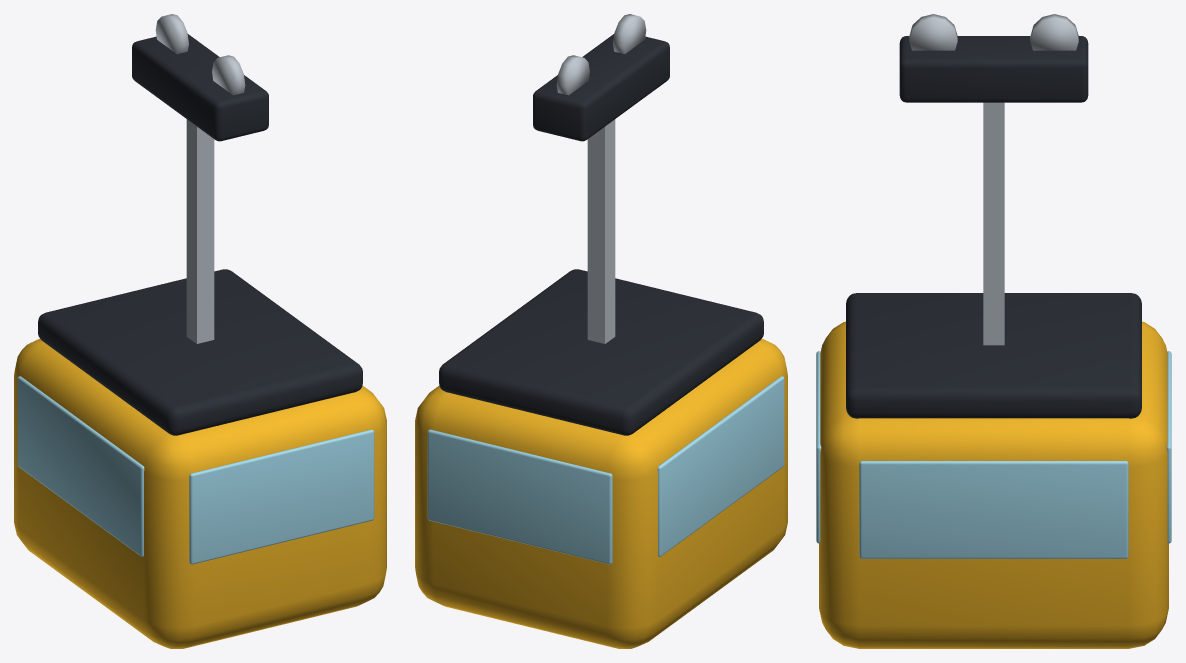
File: gondola.glb
The picture shows the model from 3 angles, left to right: view 1: azimuth 30°, elevation 25°; view 2: azimuth 150°, elevation 25°; view 3: azimuth 270°, elevation 25°; orthographic projection. The views are drawn at different scales.
Parts seen in each view (by area): view 1: cabin, roof, win_f1, win_s-1, trolley, arm, wheel-0.45, wheel0.45; view 2: cabin, roof, win_f-1, win_s-1, trolley, arm, wheel0.45, wheel-0.45; view 3: cabin, roof, win_s1, trolley, arm, wheel0.45, wheel-0.45, win_f1, win_f-1.
Boxes of the visible parts, left/top/right/bottom form: cabin: left=14, top=338, right=386, bottom=648; roof: left=38, top=269, right=362, bottom=435; win_f1: left=189, top=429, right=374, bottom=564; win_s-1: left=17, top=376, right=144, bottom=556; trolley: left=132, top=34, right=268, bottom=141; arm: left=186, top=119, right=214, bottom=343; wheel-0.45: left=155, top=14, right=188, bottom=53; wheel0.45: left=212, top=55, right=245, bottom=95; cabin: left=415, top=338, right=787, bottom=648; roof: left=439, top=269, right=763, bottom=435; win_f-1: left=427, top=429, right=612, bottom=564; win_s-1: left=657, top=376, right=784, bottom=556; trolley: left=533, top=34, right=669, bottom=141; arm: left=587, top=119, right=615, bottom=343; wheel0.45: left=613, top=14, right=646, bottom=53; wheel-0.45: left=556, top=55, right=589, bottom=95; cabin: left=819, top=321, right=1168, bottom=648; roof: left=846, top=293, right=1141, bottom=418; win_s1: left=859, top=461, right=1128, bottom=558; trolley: left=899, top=36, right=1088, bottom=102; arm: left=983, top=102, right=1004, bottom=345; wheel0.45: left=909, top=14, right=957, bottom=50; wheel-0.45: left=1030, top=14, right=1078, bottom=50; win_f1: left=816, top=351, right=821, bottom=543; win_f-1: left=1166, top=351, right=1171, bottom=543.
Bounding box in the file's own units: 2.24 × 4.78 × 2.64.
